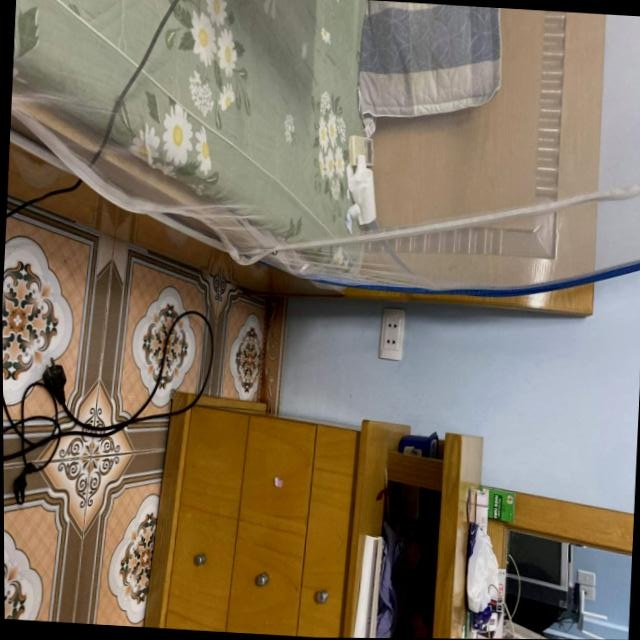outlet: (379, 307, 407, 360)
